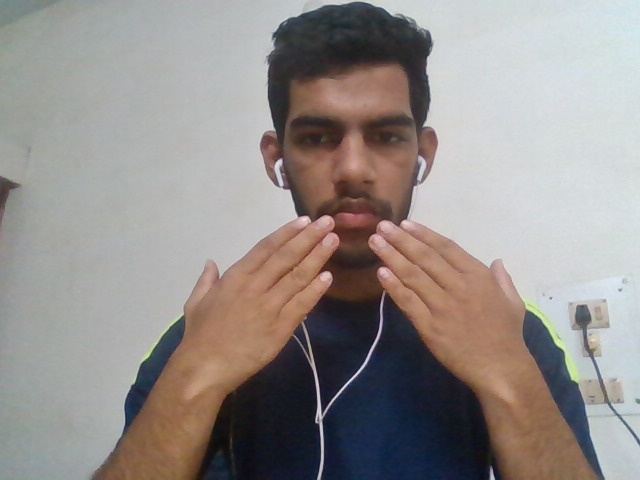thanks: (180, 205, 551, 385)
